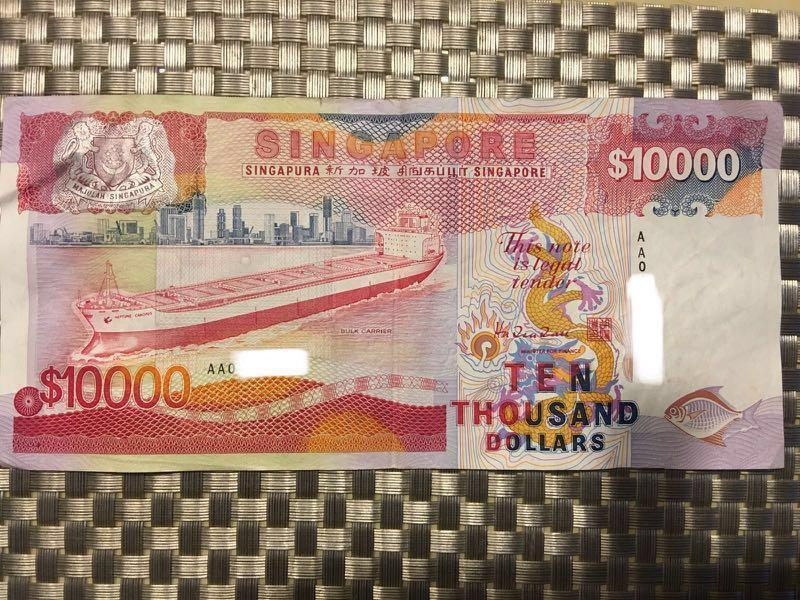10000SingaporeDollar: (9, 101, 780, 468)
